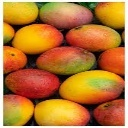mango: (59, 70, 126, 106)
